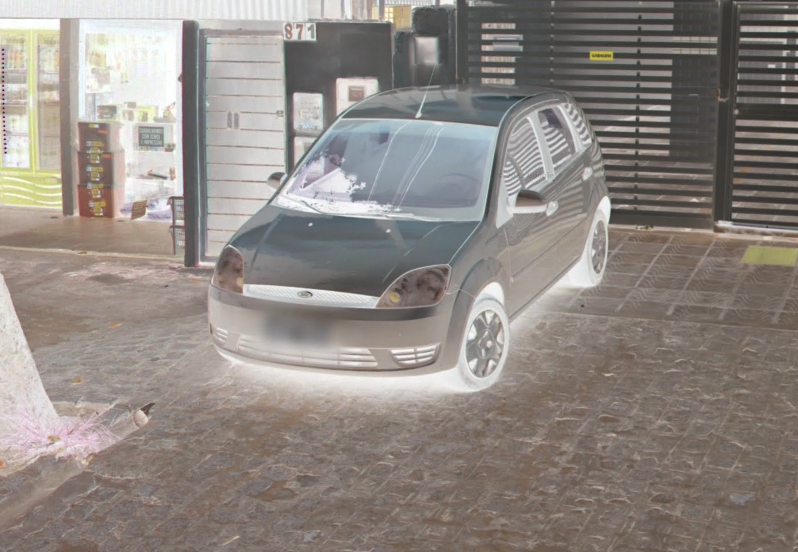car: (194, 54, 617, 394)
